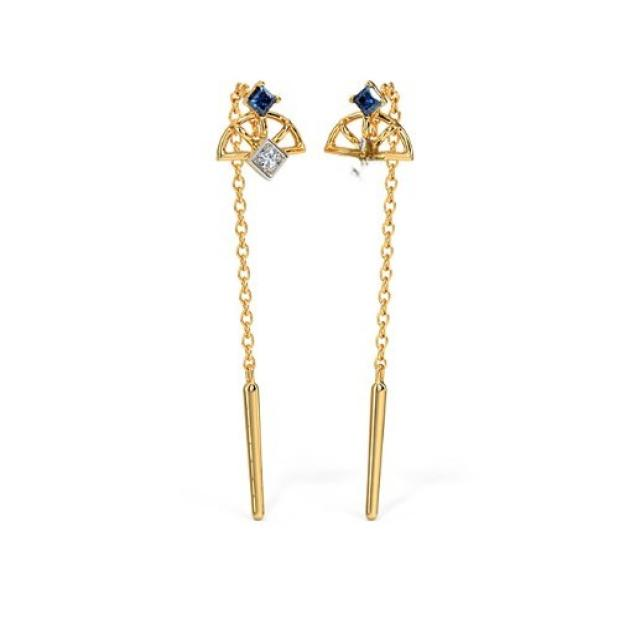missing gem: (343, 158, 382, 198)
